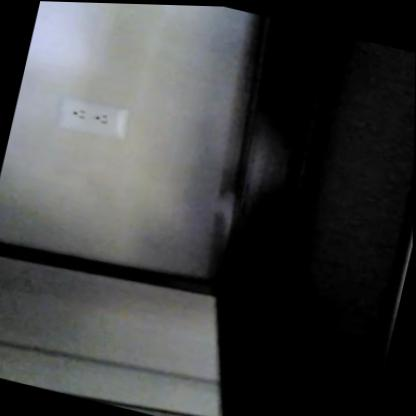OUTLET: (55, 93, 131, 139)
